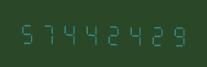five: (17, 18, 37, 45)
four: (59, 19, 79, 46), (80, 19, 100, 46), (122, 20, 142, 47)
nine: (164, 21, 184, 48)
seven: (38, 18, 58, 46)
two: (101, 19, 121, 47), (143, 20, 163, 48)
